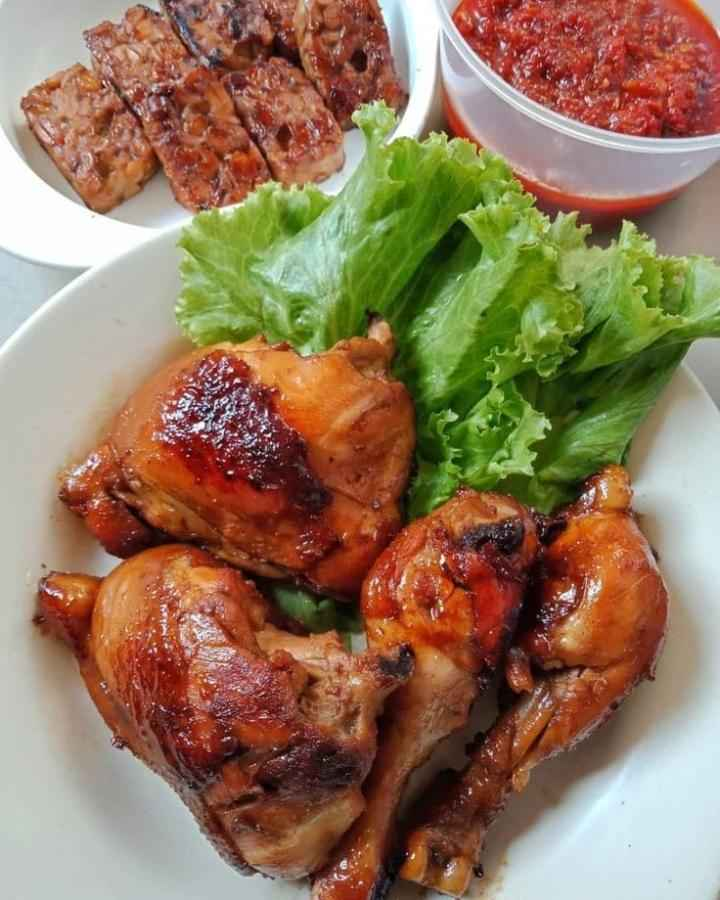Ayam: (13, 541, 340, 900), (454, 482, 696, 900), (42, 343, 410, 588), (314, 498, 524, 899)
Tempe: (5, 66, 144, 206), (279, 5, 435, 116), (221, 73, 352, 195), (125, 91, 264, 204), (54, 7, 187, 95)
